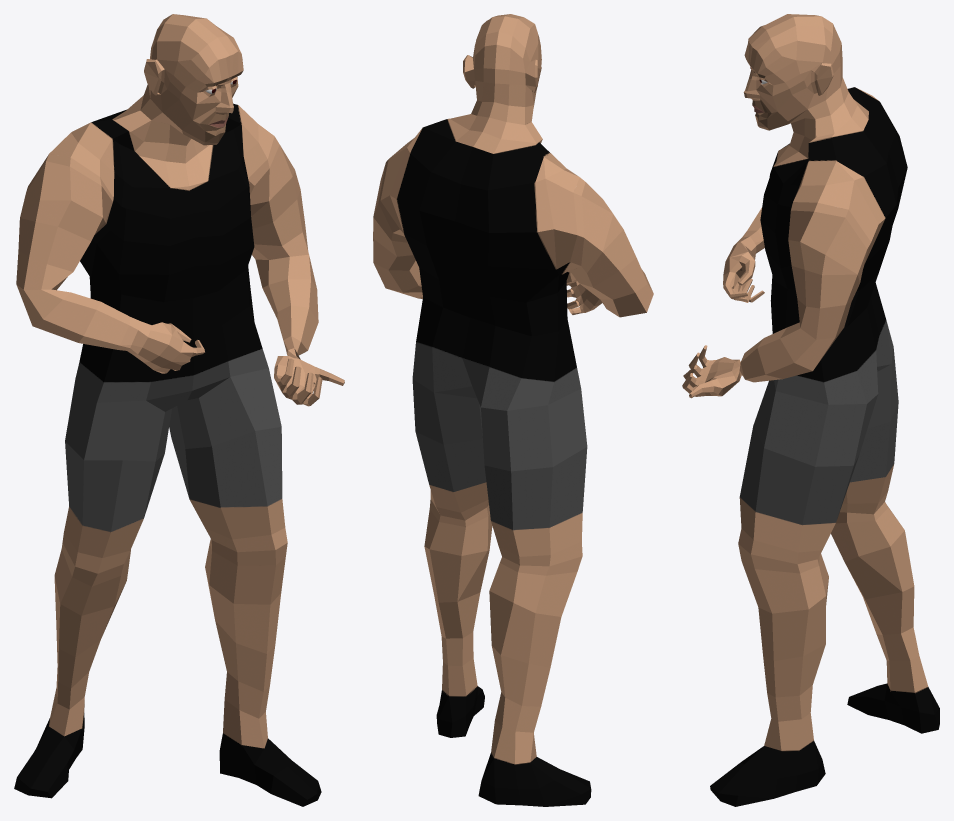
The model's file is PlayerIdle(109).obj.
3 renders of one model, left to right at view 1: azimuth 30°, elevation 25°; view 2: azimuth 150°, elevation 25°; view 3: azimuth 270°, elevation 25°, orthographic. The views are drawn at different scales.
Visible parts, largest first — view 1: Plane002; view 2: Plane002; view 3: Plane002.
Part boxes in pixels (x1,y1,x2,y2): Plane002: [14, 14, 344, 806]; Plane002: [373, 14, 653, 806]; Plane002: [682, 14, 939, 806].
Size of the model in its own units: 699 by 1803 by 565.
